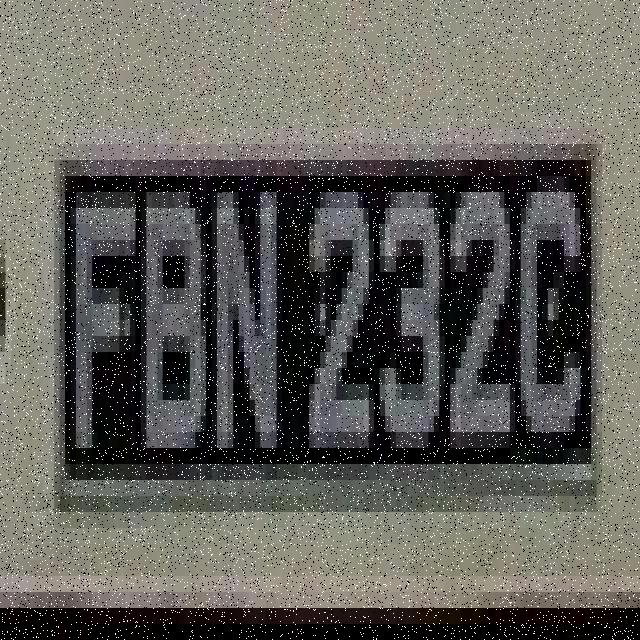licenseplate: (56, 162, 594, 489)
